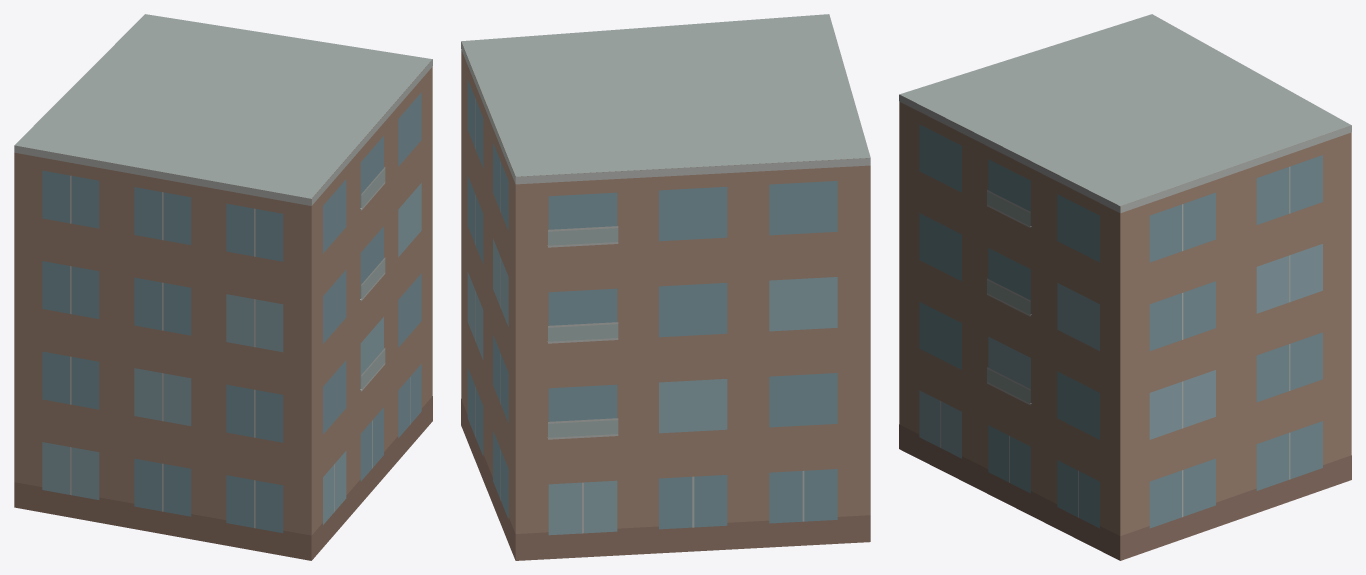
The model's file is survey-upis-32844858.glb.
The picture shows the model from 3 angles, left to right: view 1: azimuth 30°, elevation 25°; view 2: azimuth 150°, elevation 25°; view 3: azimuth 270°, elevation 25°; orthographic projection. The views are drawn at different scales.
Visible parts, largest first — view 1: survey-upis-32844858.tmp; view 2: survey-upis-32844858.tmp; view 3: survey-upis-32844858.tmp.
Boxes of the visible parts, x1,y1,x2,y2 form: survey-upis-32844858.tmp: [14, 14, 432, 560]; survey-upis-32844858.tmp: [461, 14, 870, 560]; survey-upis-32844858.tmp: [899, 14, 1351, 560].
Size of the model in its own units: 14.19 by 12.2 by 14.12.
